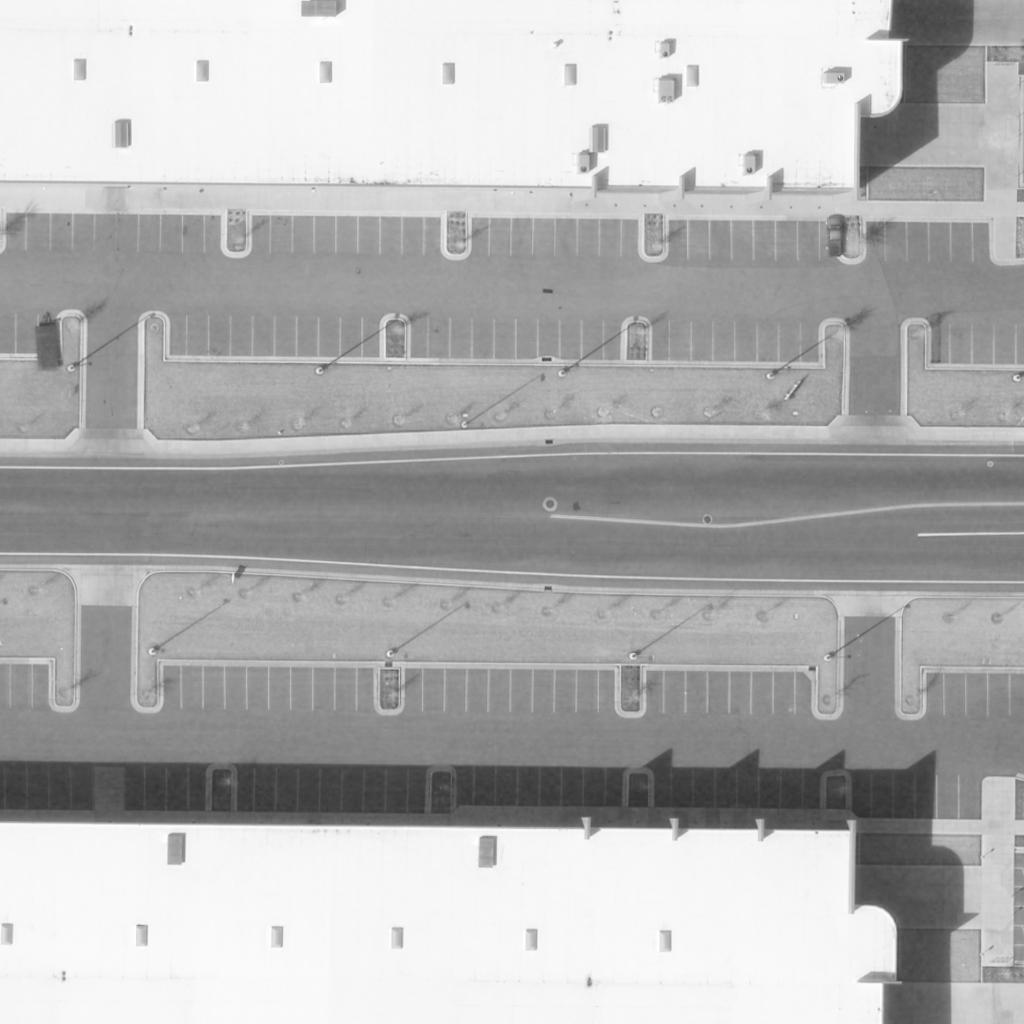vehicle: (825, 217, 845, 257)
